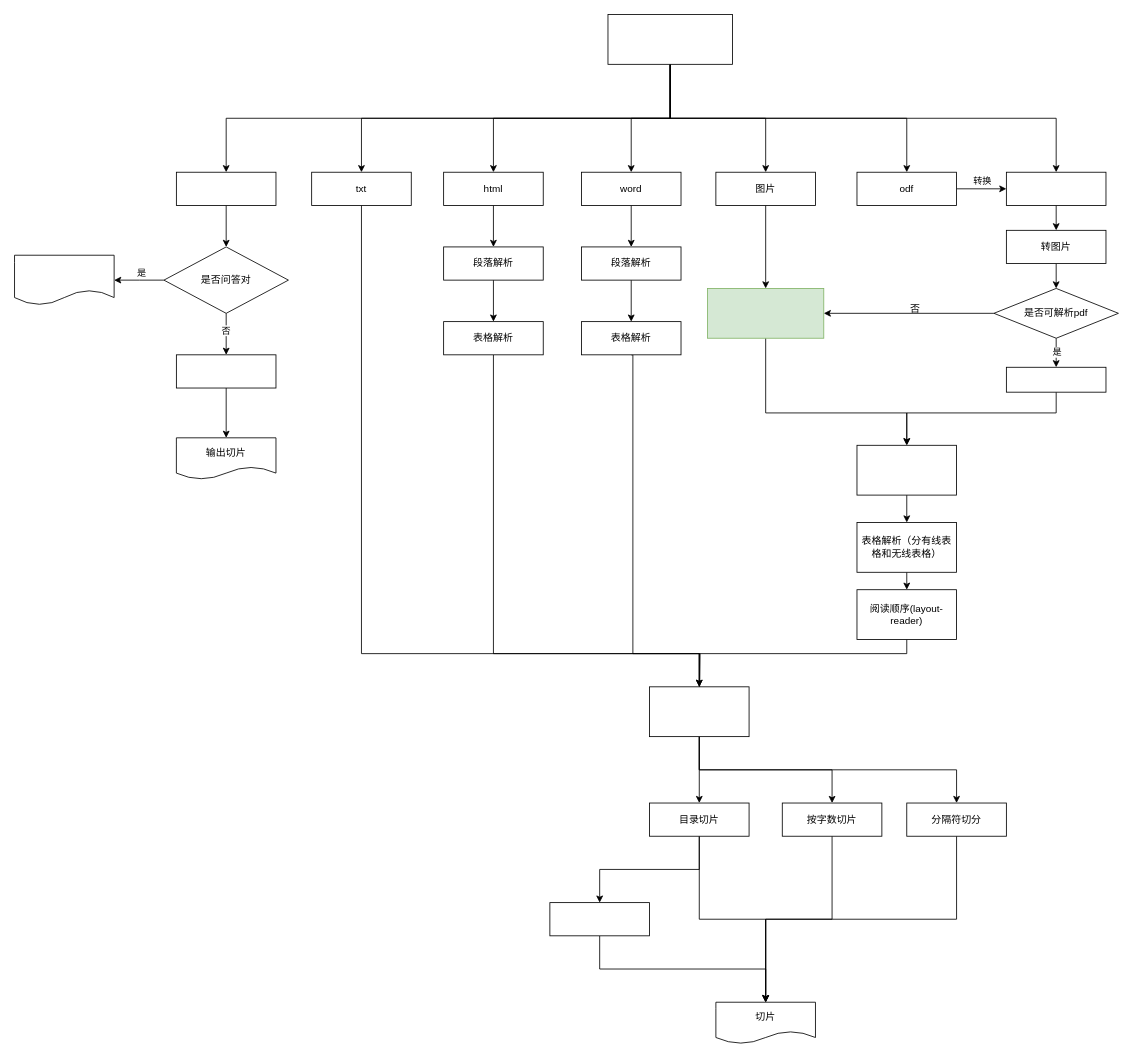
The diagram is 1133 pixels wide and 1058 high, and some of its shapes have lost their labels. The centre of each missing label's shape, as x and y in pixels:
"chunks" belongs at pixel 699 711.
"excel" belongs at pixel 226 188.
"ocr服务(Tensorrt加速)" belongs at pixel 765 313.
"pdf" belongs at pixel 1056 188.
"文件从cos下载到本地" belongs at pixel 669 39.
"文档布局（yolov11）" belongs at pixel 906 469.
"智能切片" belongs at pixel 599 919.
"模版匹配抽取" belongs at pixel 226 371.
"直接解析文字" belongs at pixel 1056 379.
"输出问答对" belongs at pixel 64 279.
